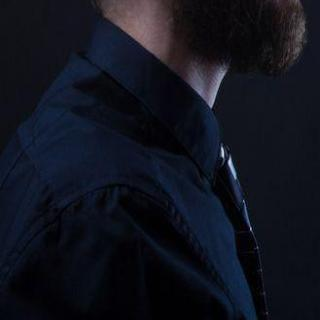smoke: (297, 0, 320, 23)
